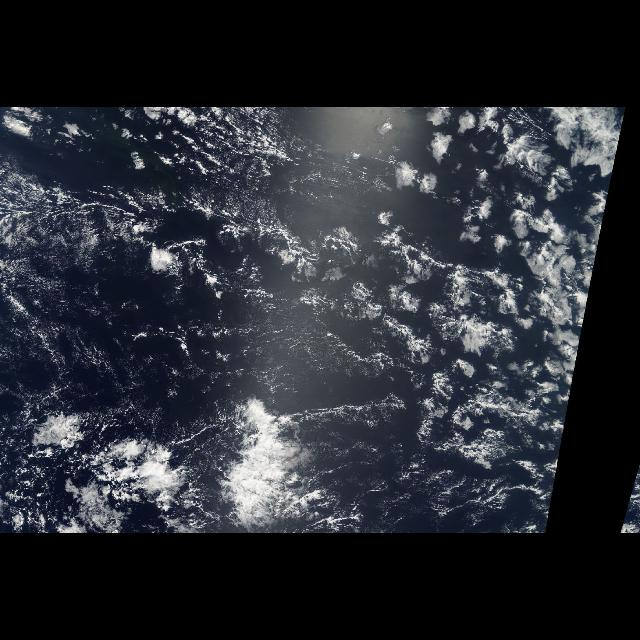Flower: (314, 108, 622, 474)
Gravel: (3, 277, 293, 401)
Sugar: (18, 296, 356, 406), (13, 162, 137, 280)
